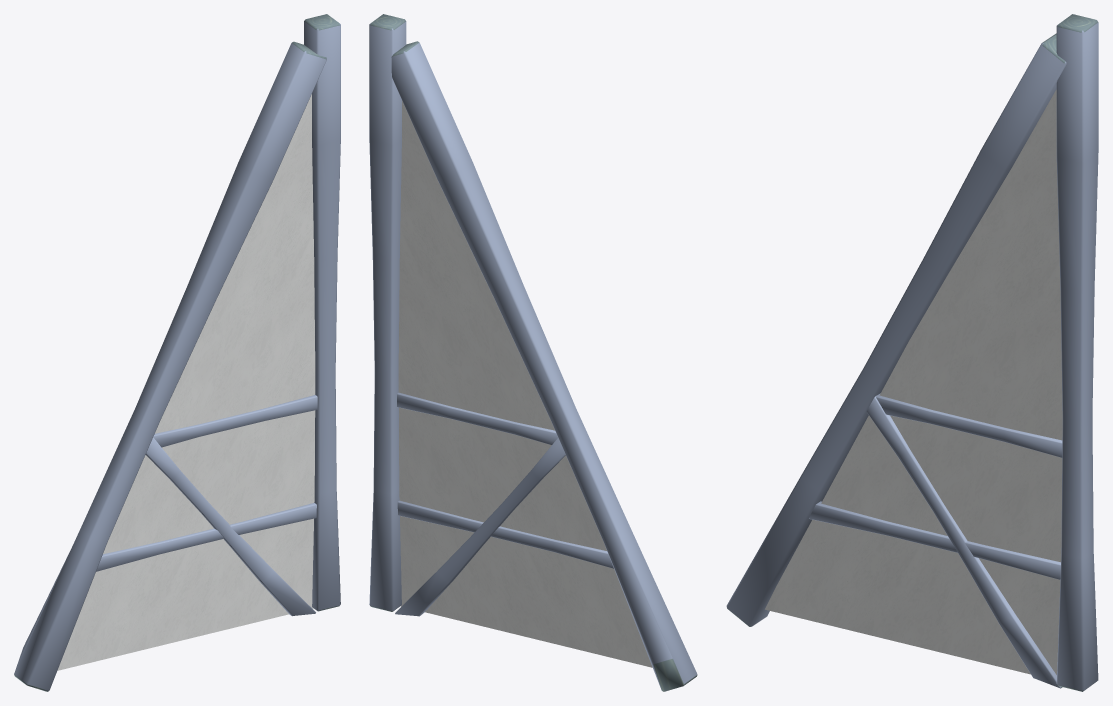
Rendered from PlasterWall_TriangleHalf_Left.fbx.
3 views of the same model, side by side, from view 1: azimuth 30°, elevation 25°; view 2: azimuth 150°, elevation 25°; view 3: azimuth 330°, elevation 25° (orthographic). The views are drawn at different scales.
Visible parts, largest first — view 1: PlasterWall_TriangleHalf_Left; view 2: PlasterWall_TriangleHalf_Left; view 3: PlasterWall_TriangleHalf_Left.
Boxes of the visible parts, box(x1,y1,x2,y2) form: PlasterWall_TriangleHalf_Left: box(14, 14, 340, 691); PlasterWall_TriangleHalf_Left: box(369, 14, 697, 691); PlasterWall_TriangleHalf_Left: box(726, 14, 1098, 691).
Bounding box in the file's own units: 2.29 × 4.16 × 0.1934.
